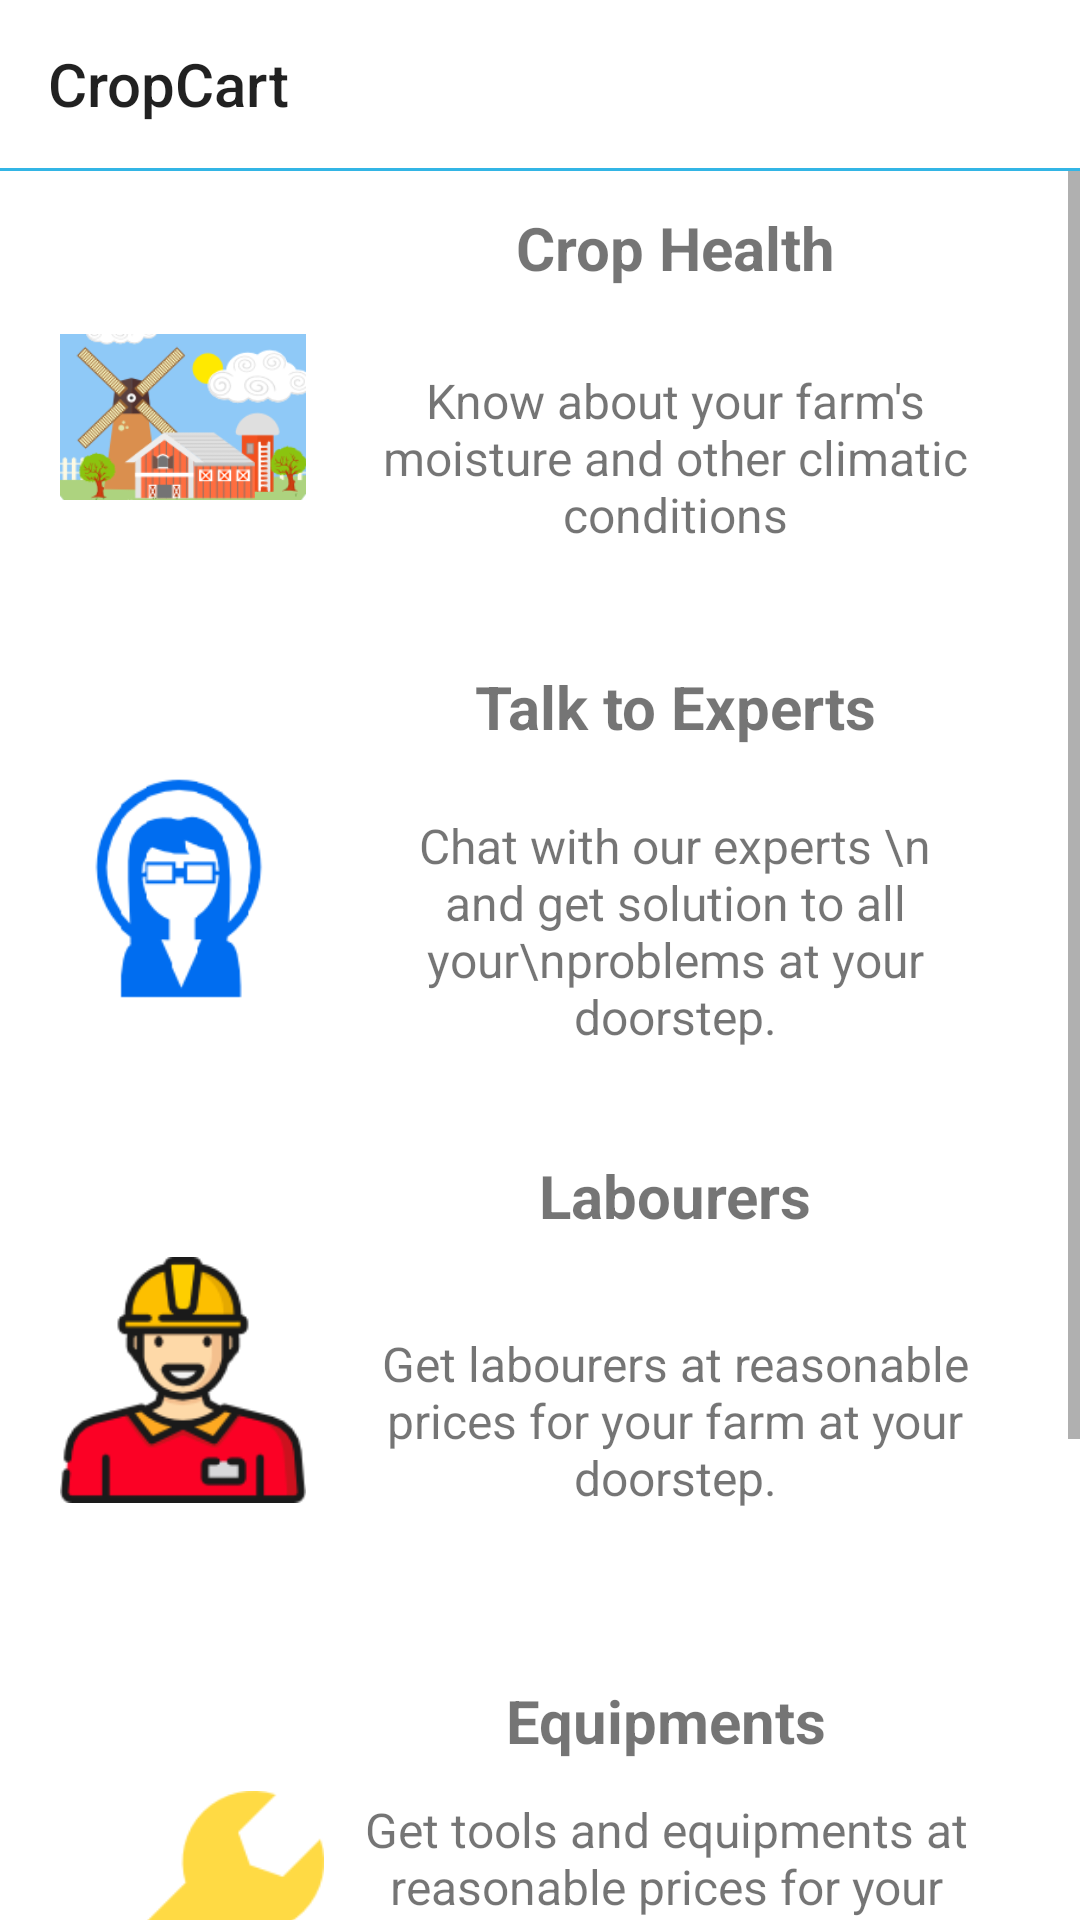

Named icons in this screenshot (1080w x 1920h) and their centers, (x=x, y=y):
myfarm: (x=183, y=417)
